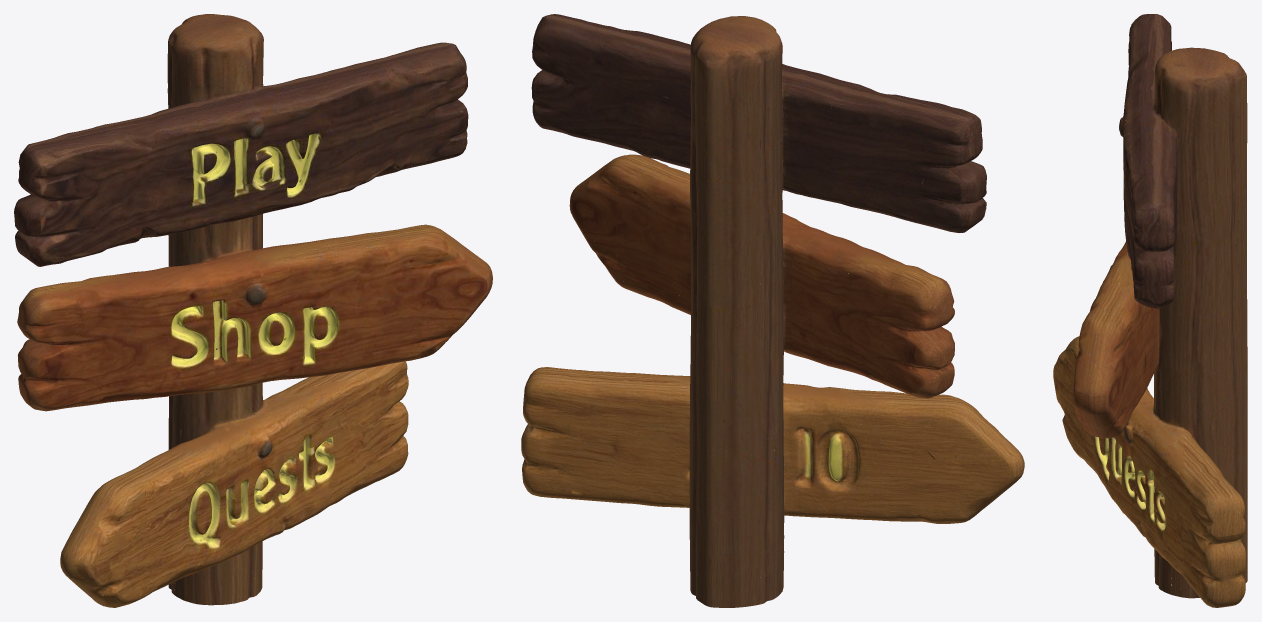
Rendered from menusign.glb.
3 views of the same model, side by side, from view 1: azimuth 30°, elevation 25°; view 2: azimuth 150°, elevation 25°; view 3: azimuth 270°, elevation 25° (orthographic). The views are drawn at different scales.
Visible parts, largest first — view 1: crossway; view 2: crossway; view 3: crossway.
Boxes of the visible parts, <box> form: crossway: <box>14,14,492,607</box>; crossway: <box>521,14,1024,607</box>; crossway: <box>1053,14,1247,607</box>.
Size of the model in its own units: 0.8611 by 1.04 by 0.3513.
1 material, 1 textured.
